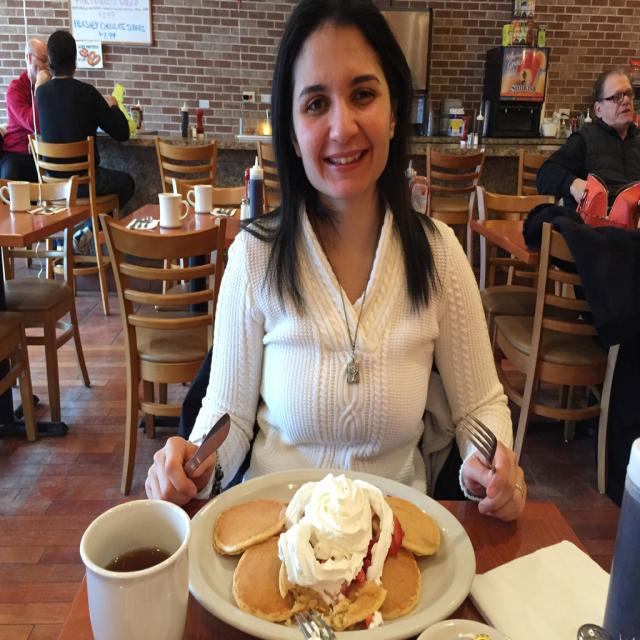Coffee: (76, 492, 196, 640)
Tea: (101, 548, 173, 574)
